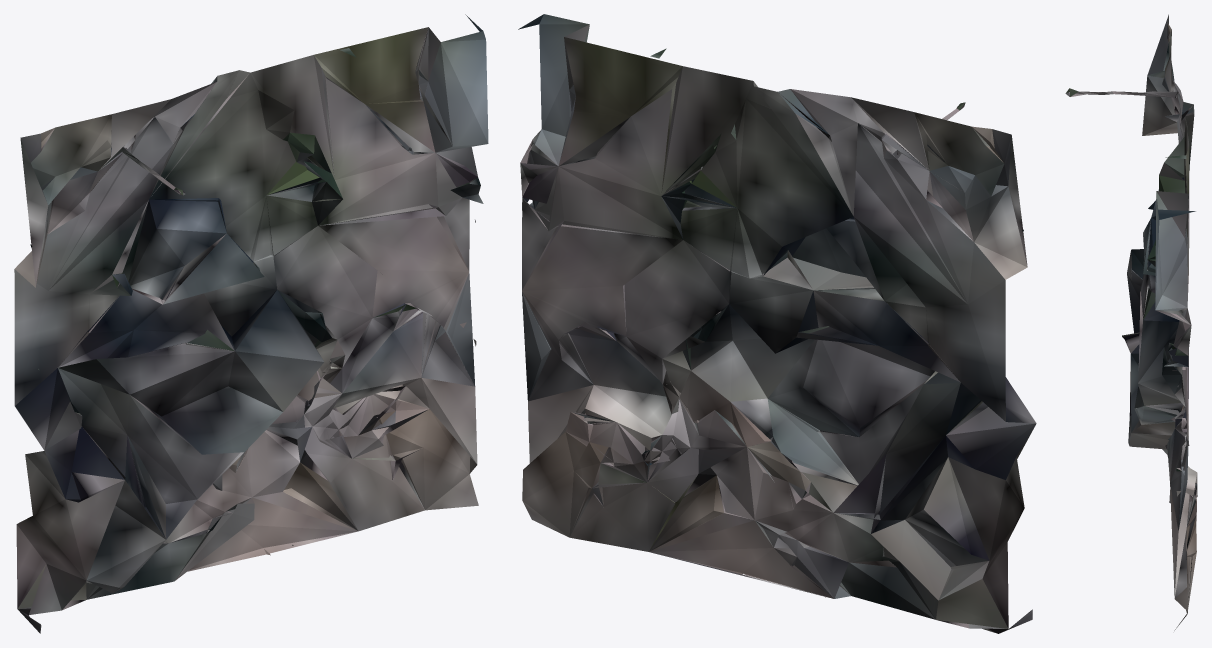
File: Tile_+032_+021_L13.obj
The picture shows the model from 3 angles, left to right: view 1: azimuth 30°, elevation 25°; view 2: azimuth 150°, elevation 25°; view 3: azimuth 270°, elevation 25°; orthographic projection. The views are drawn at different scales.
Bounding box in the file's own units: 250 × 250 × 70.77.
Materials: 1 (1 with a texture image).
